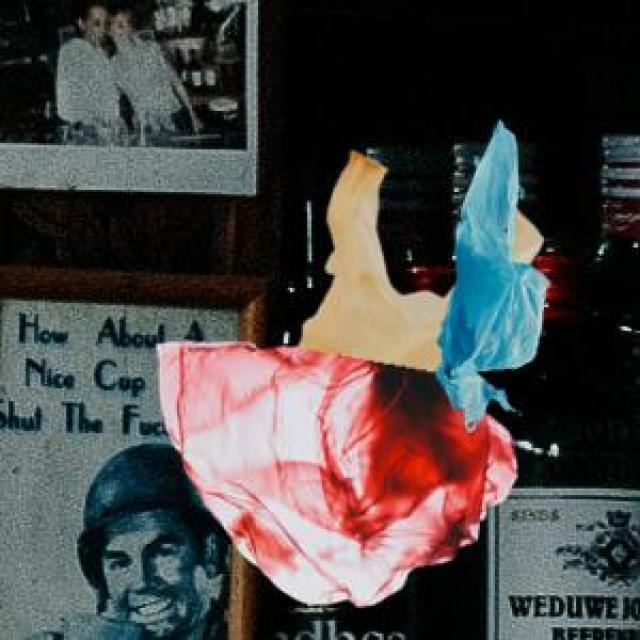waste: (159, 122, 546, 606)
